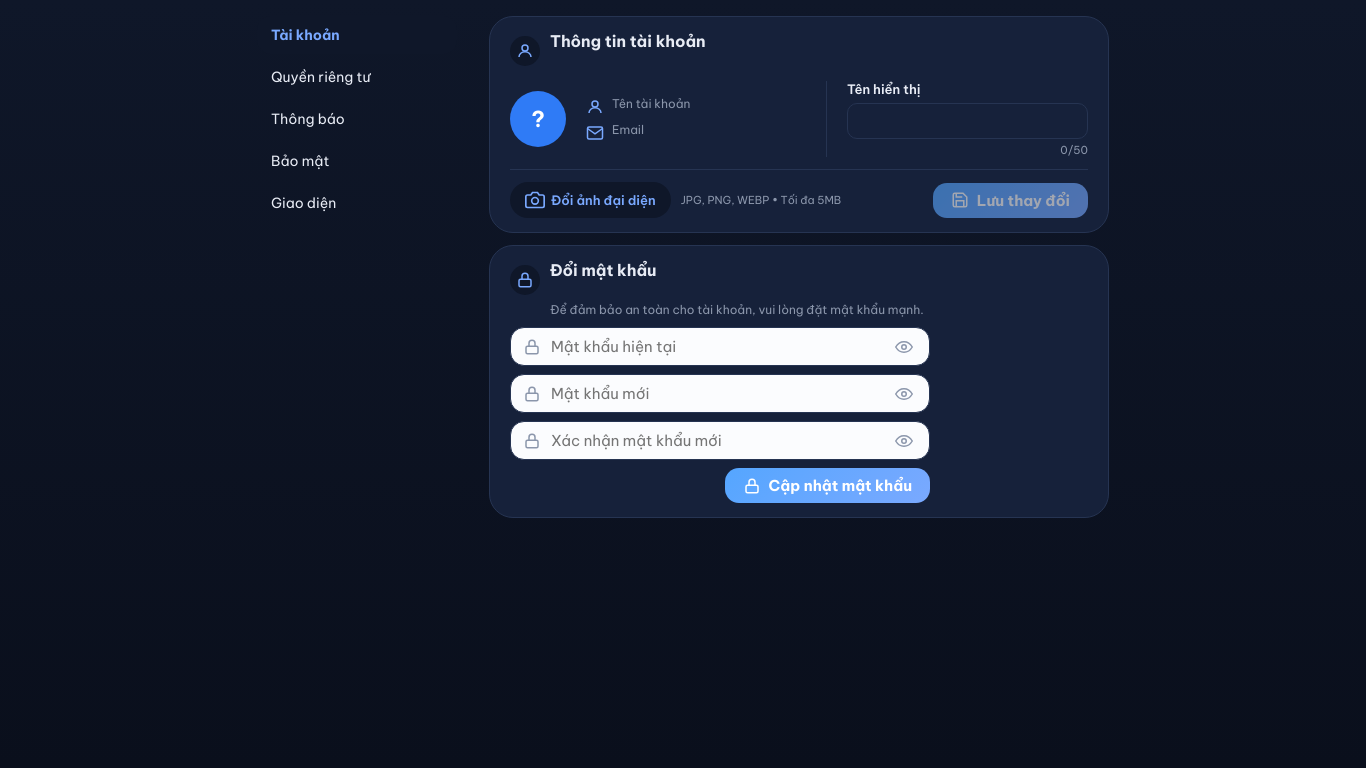
TrangCaiDat › doi mat khau thanh cong hien thong bao
Type "Cu123456" into the password field with placeholder "Mật khẩu hiện tại".
click(716, 346); type("Cu123456")  # box x1=541 y1=328 x2=891 y2=365
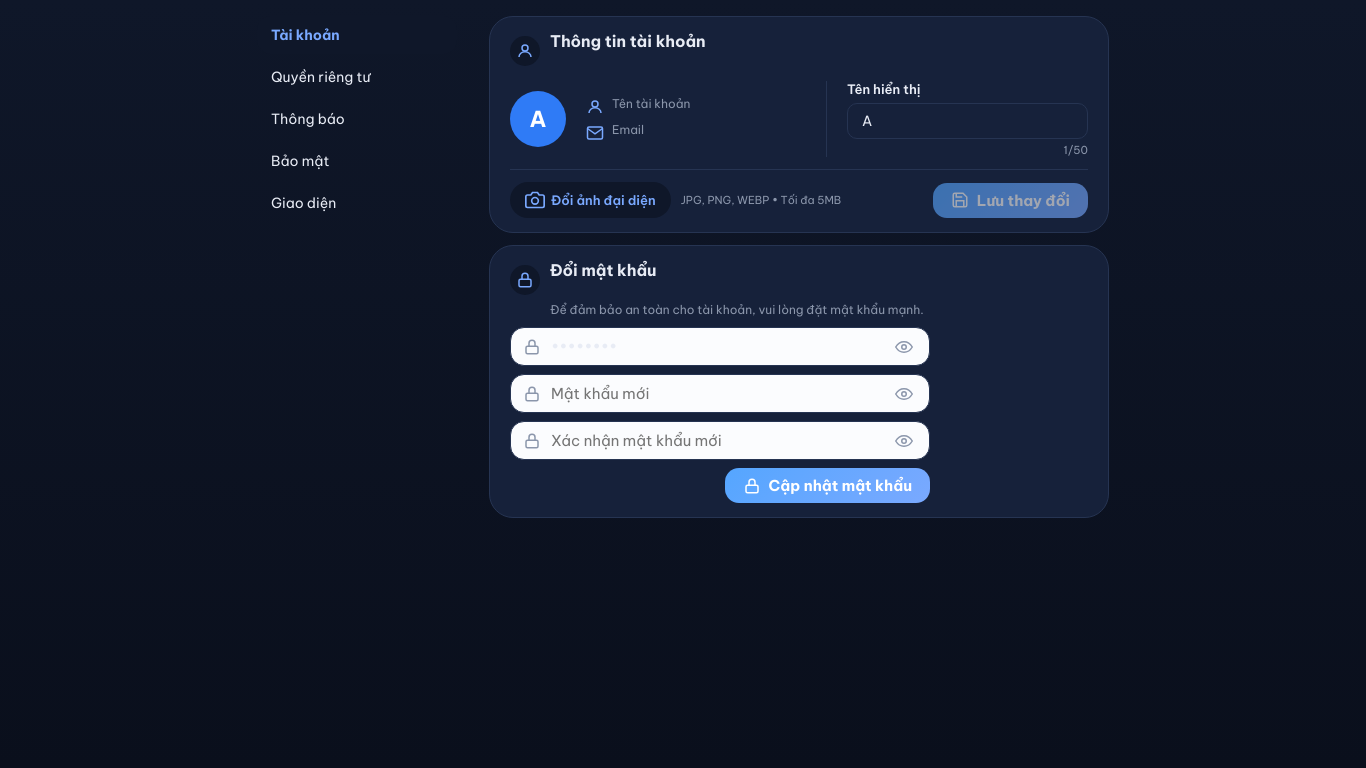
Type "Moi123456" into the password field with placeholder "Mật khẩu mới".
click(716, 394); type("Moi123456")  # box x1=541 y1=375 x2=891 y2=412
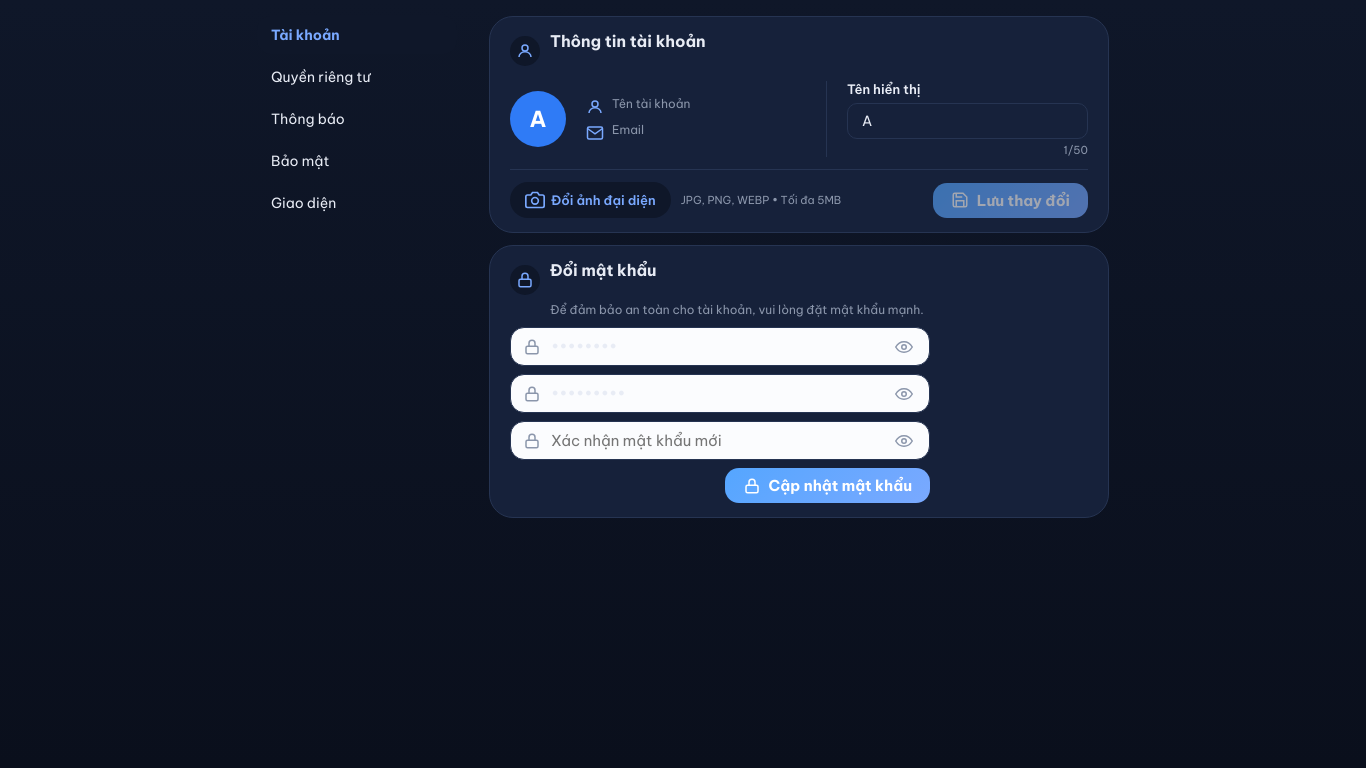
Type "Moi123456" into the password field with placeholder "Xác nhận mật khẩu mới".
click(716, 440); type("Moi123456")  # box x1=541 y1=422 x2=891 y2=459
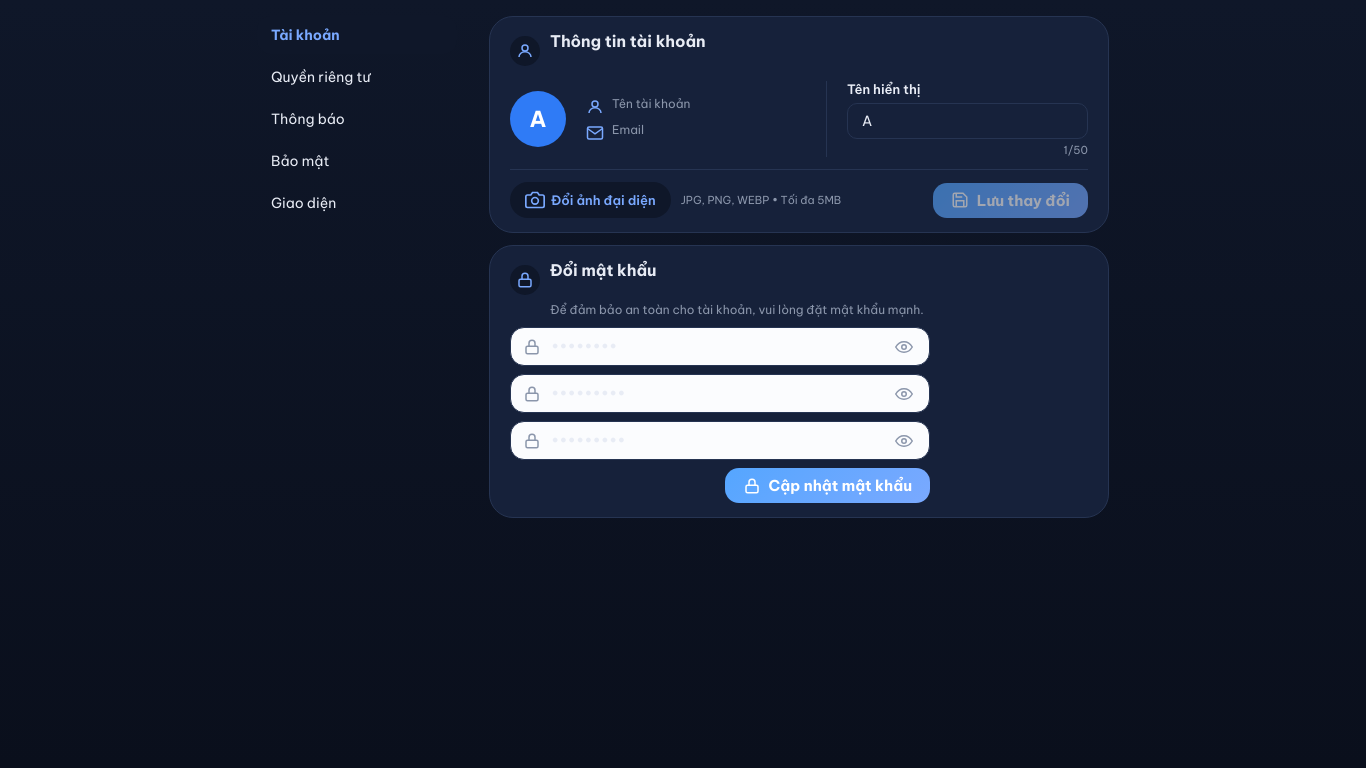
Click the button "Cập nhật mật khẩu".
click(827, 486)  # box x1=724 y1=468 x2=930 y2=503
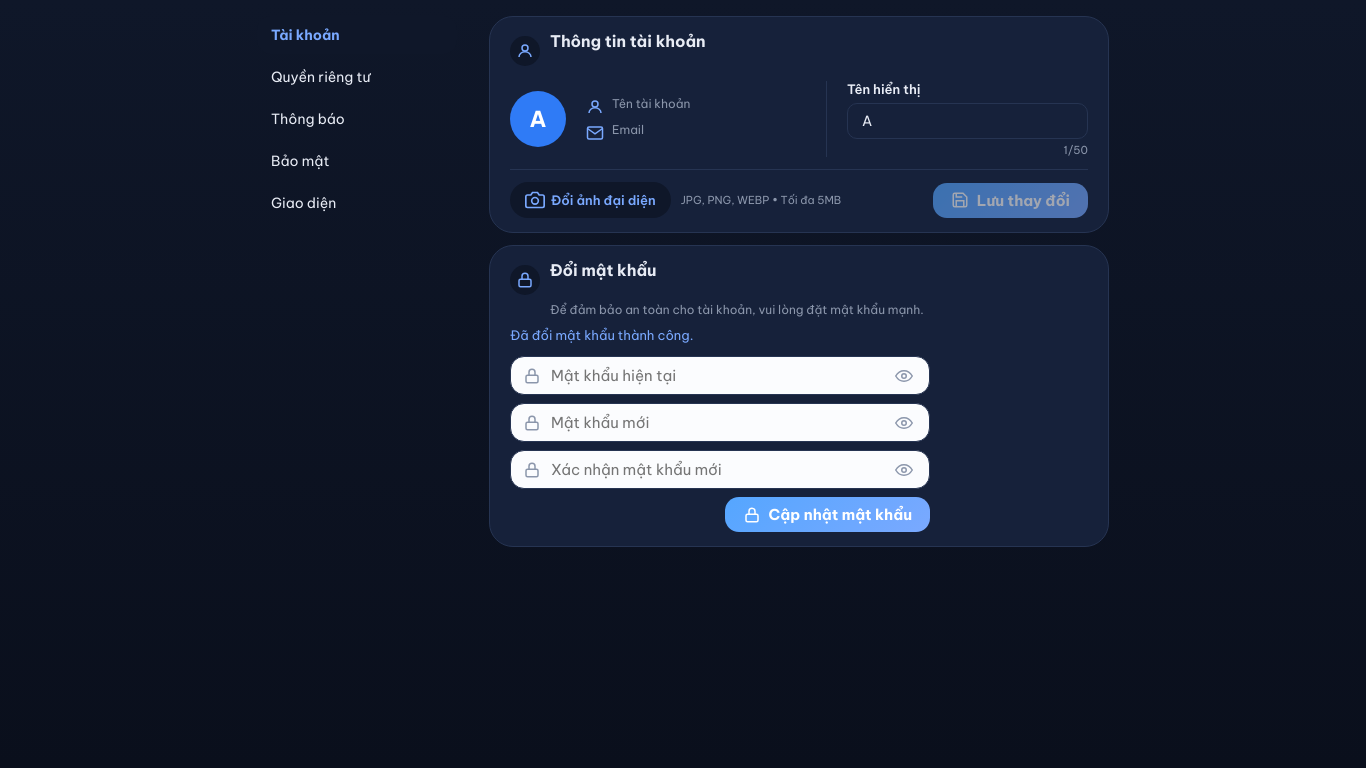
Expected: the text "Đã đổi mật khẩu thành công." is shown, x1=510 y1=327 x2=693 y2=343
